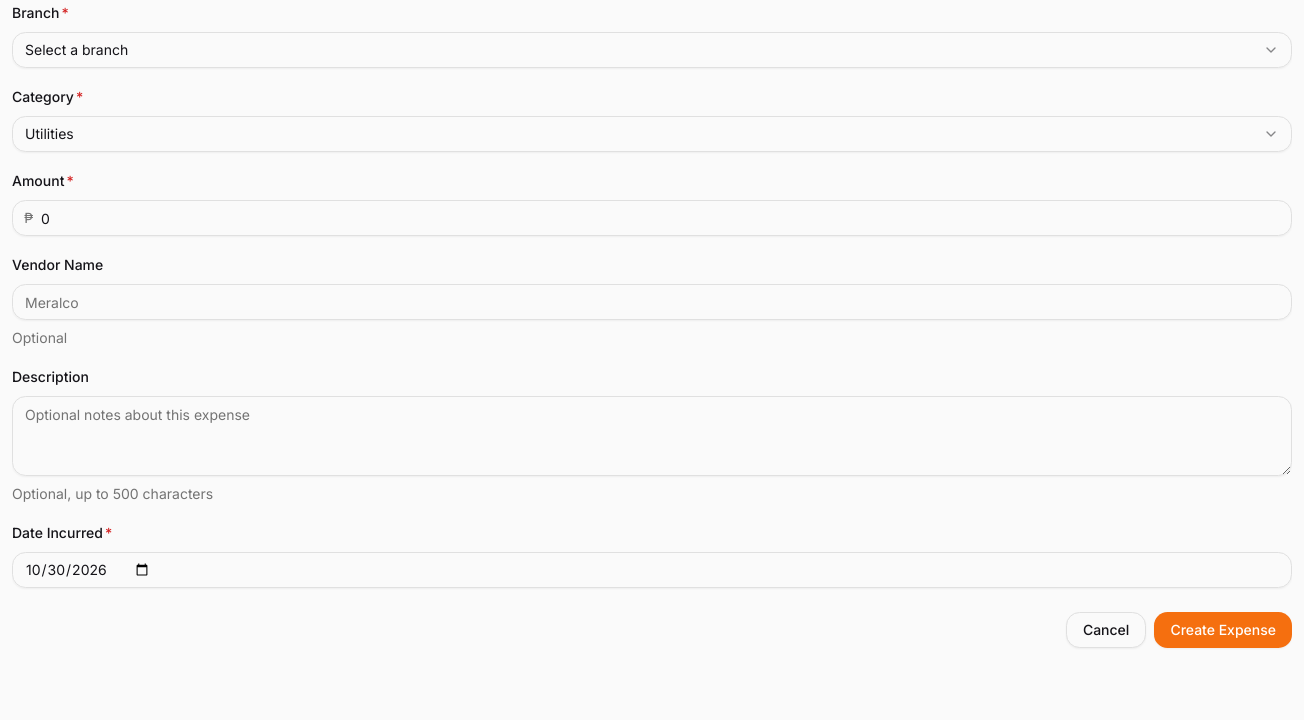
Test: ExpenseForm › rejects a non-positive amount
What coordinates should you click on to do the following:
click the button "Create Expense"
I would click on:
 (1223, 630)
Its box is [1154,612,1292,648].
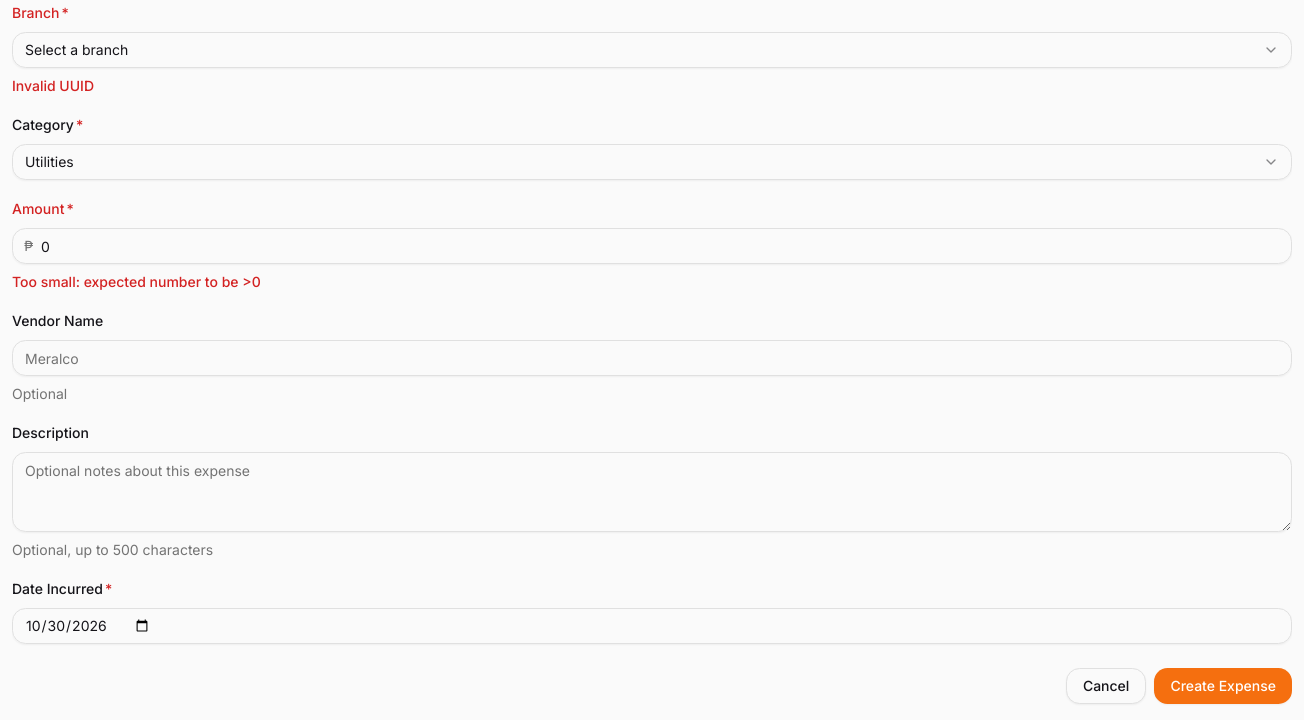
Expected: the text "Too small: expected number to be >0" is shown, [12,273,261,290]
